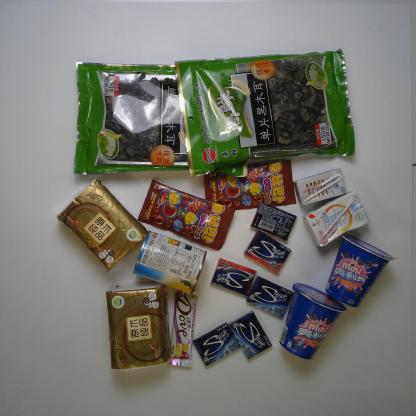Candy: (138, 179, 235, 250), (202, 158, 297, 210)
Canned Food: (132, 230, 207, 295)
Chocolate: (168, 289, 198, 369)
Dessert: (325, 233, 394, 308), (279, 284, 346, 360)
Dried Food: (175, 48, 356, 175), (72, 60, 249, 180)
Gum: (243, 229, 292, 275), (228, 310, 272, 359), (245, 276, 292, 319), (194, 324, 240, 366), (210, 258, 257, 295), (251, 203, 297, 240)
Milk: (303, 191, 373, 247), (293, 169, 348, 205)
Tissue: (57, 179, 148, 272), (105, 280, 172, 371)
